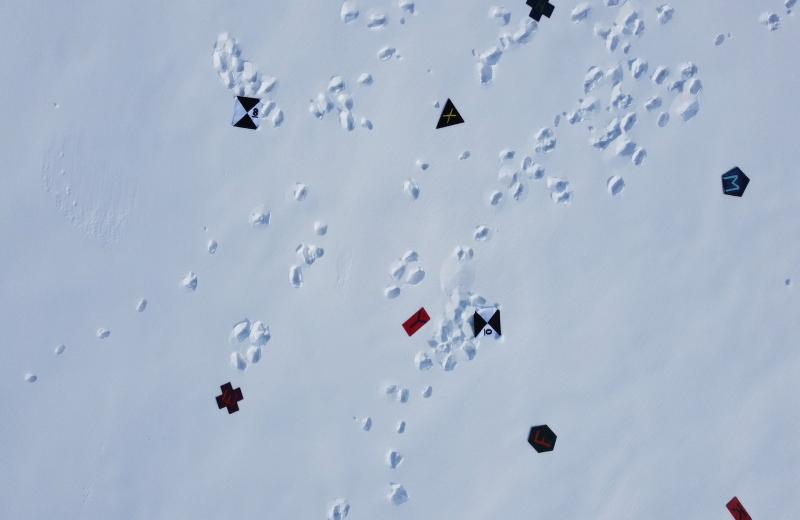Cross: (214, 380, 246, 417), (525, 0, 556, 23)
Hexagon: (528, 423, 558, 455)
Pentagon: (721, 166, 752, 200)
Rectangle: (400, 306, 431, 337), (722, 493, 752, 520)
Triangle: (433, 96, 464, 132)
